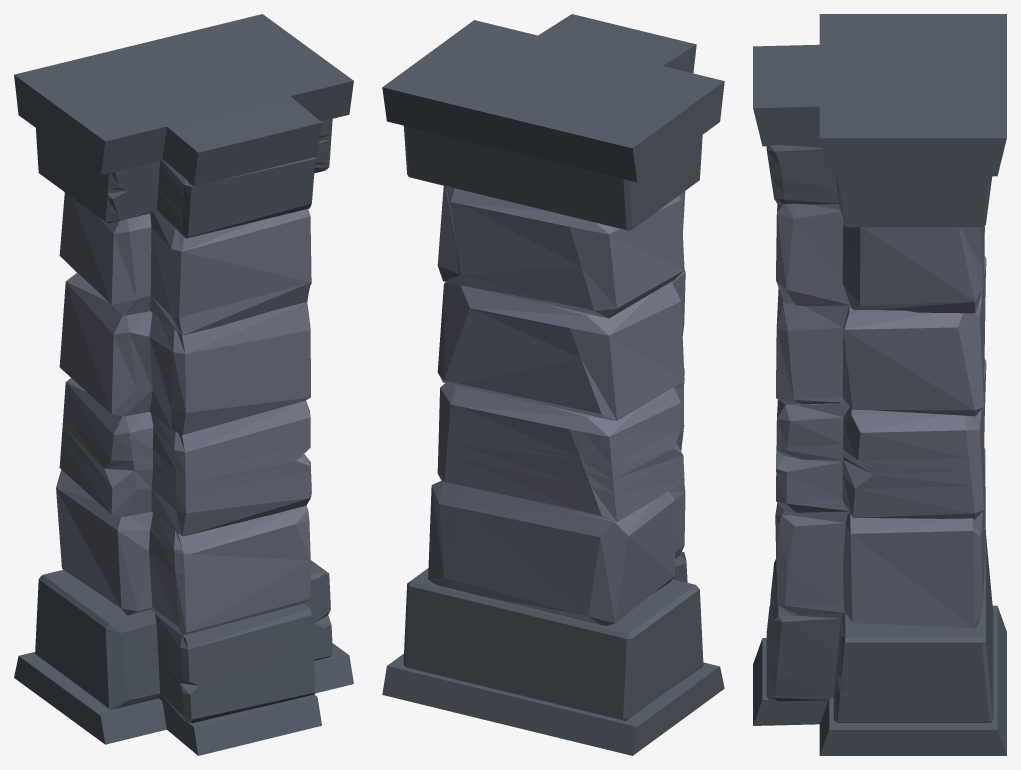
The model's file is Triple_Column.glb.
The picture shows the model from 3 angles, left to right: view 1: azimuth 30°, elevation 25°; view 2: azimuth 150°, elevation 25°; view 3: azimuth 270°, elevation 25°; orthographic projection. The views are drawn at different scales.
Parts seen in each view (by area): view 1: world; view 2: world; view 3: world.
Boxes of the visible parts, bbox=[...] form: world: bbox=[14, 14, 353, 755]; world: bbox=[382, 14, 724, 755]; world: bbox=[753, 14, 1006, 755].
Bounding box in the file's own units: 220 × 512 × 190.
